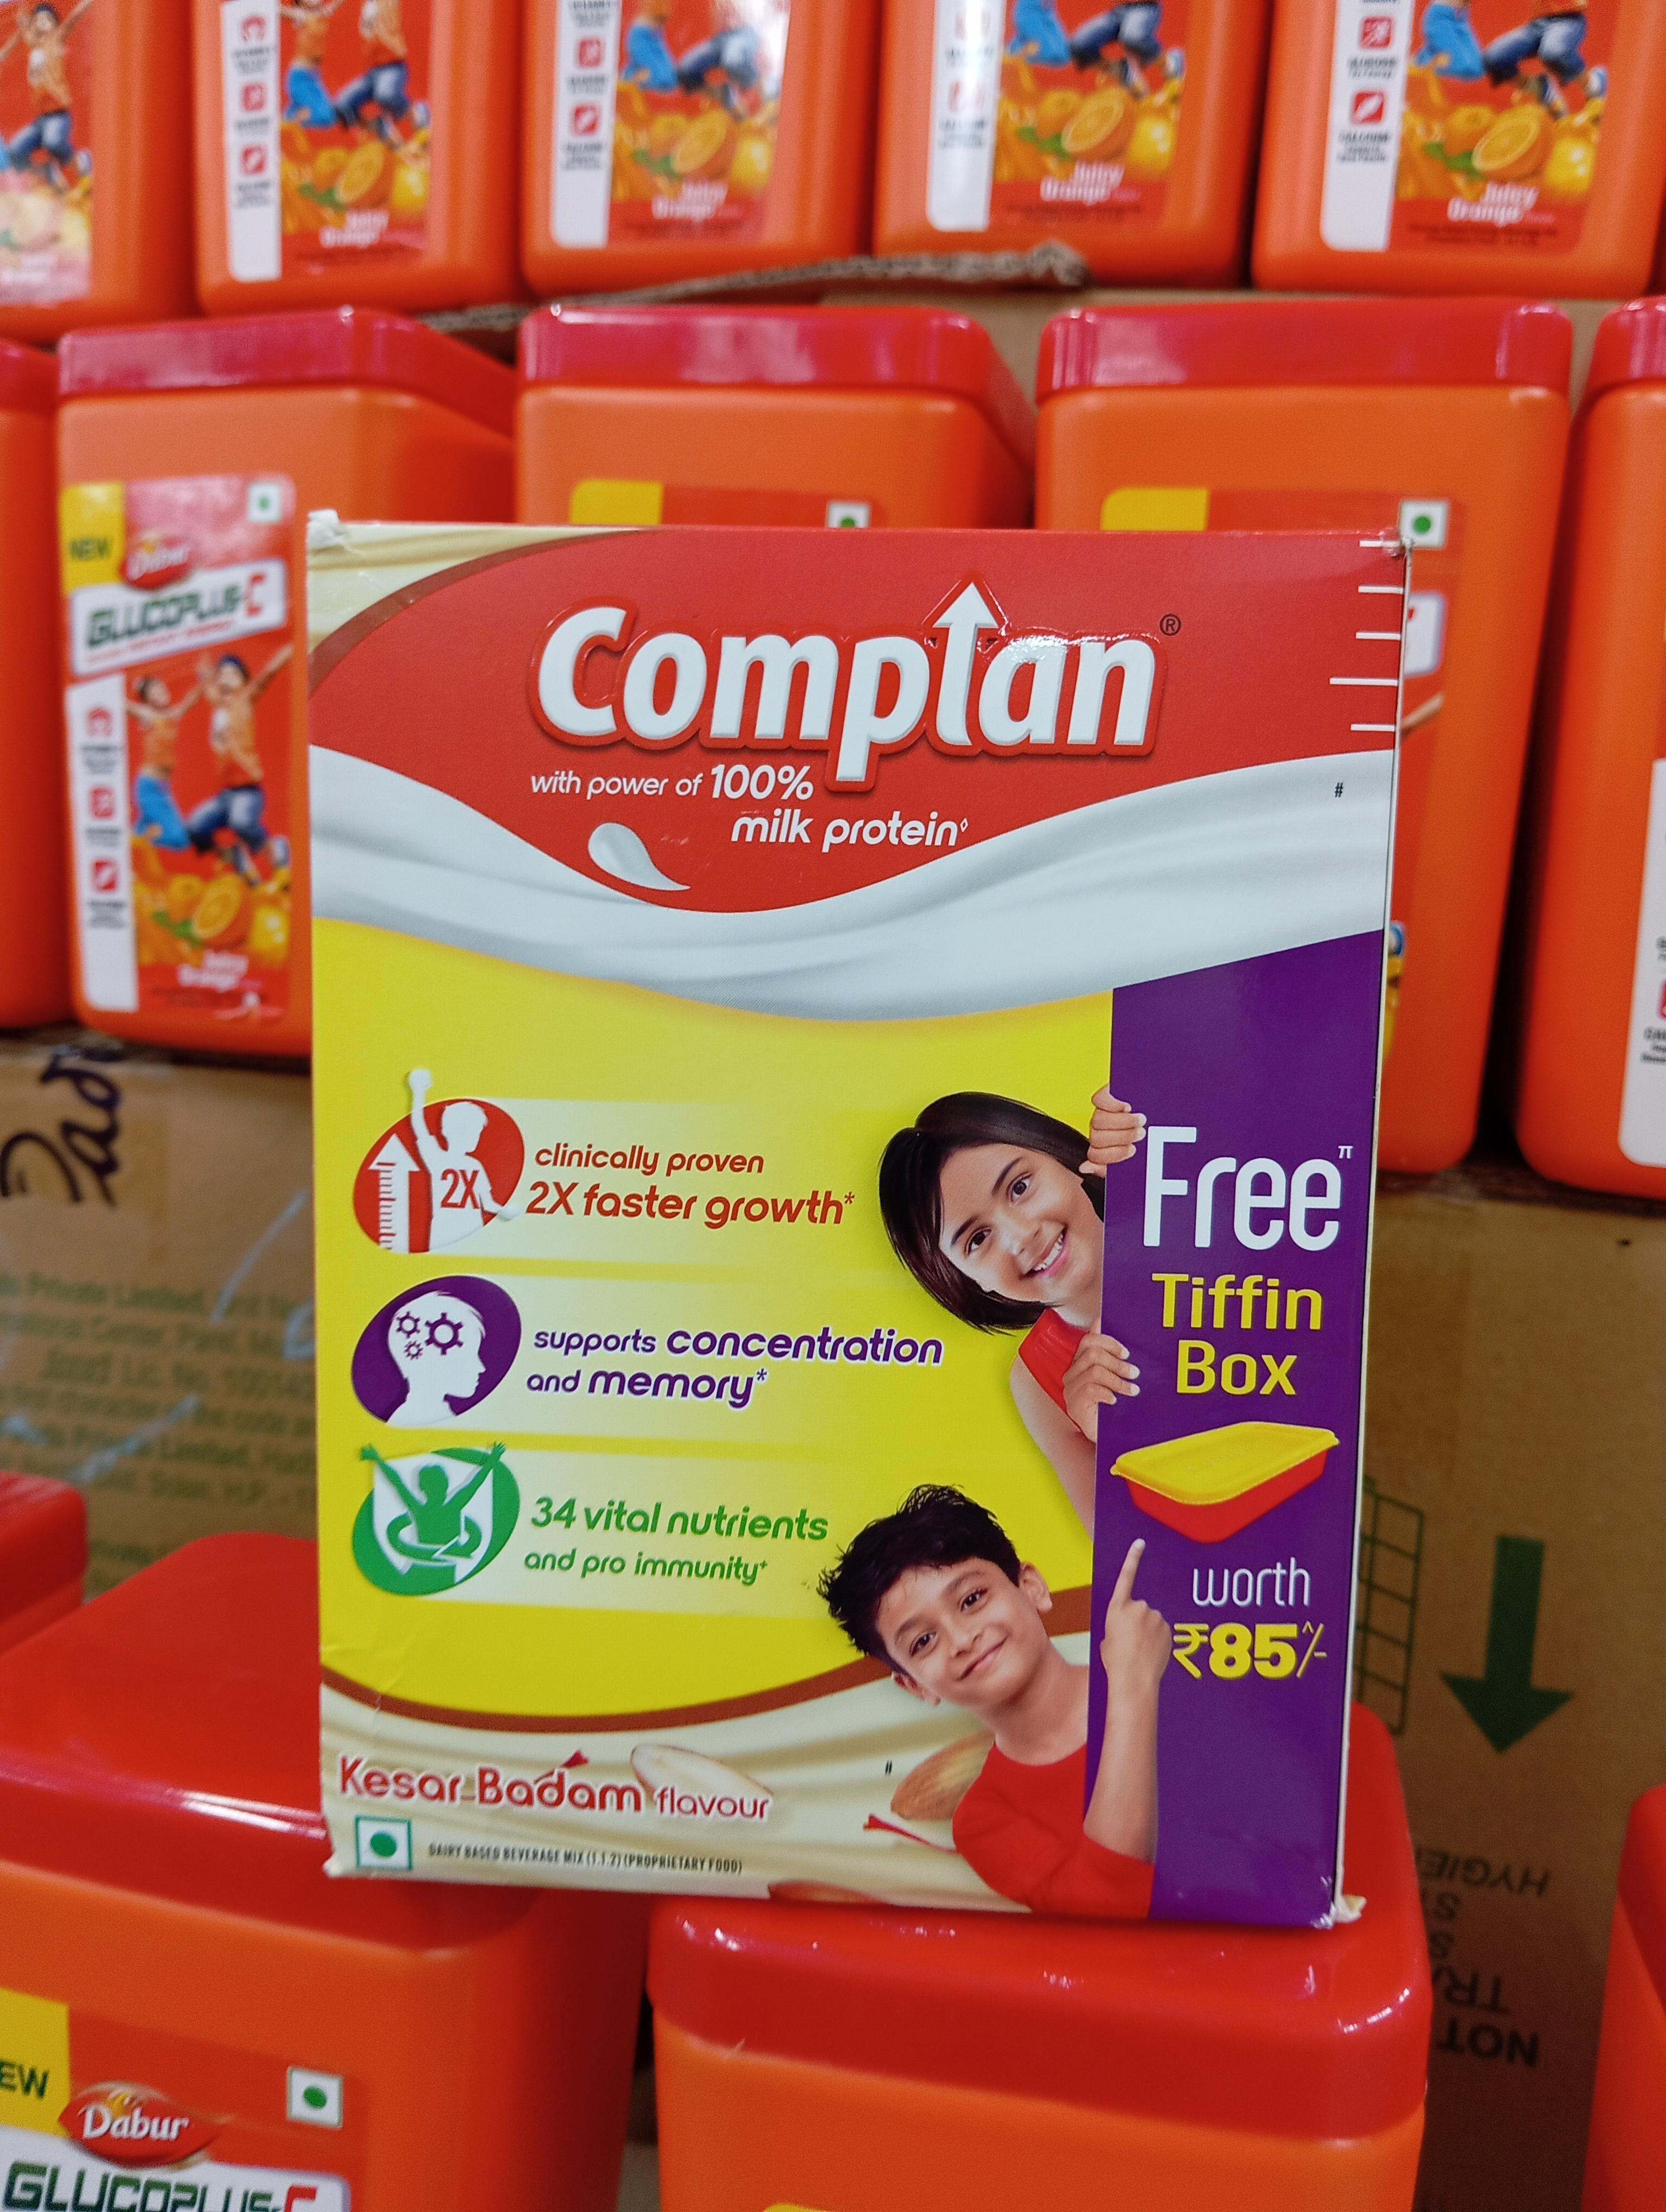COMPLAN_KESAR_BADAM_500_GMS_PACK: (313, 523, 1407, 1922)
